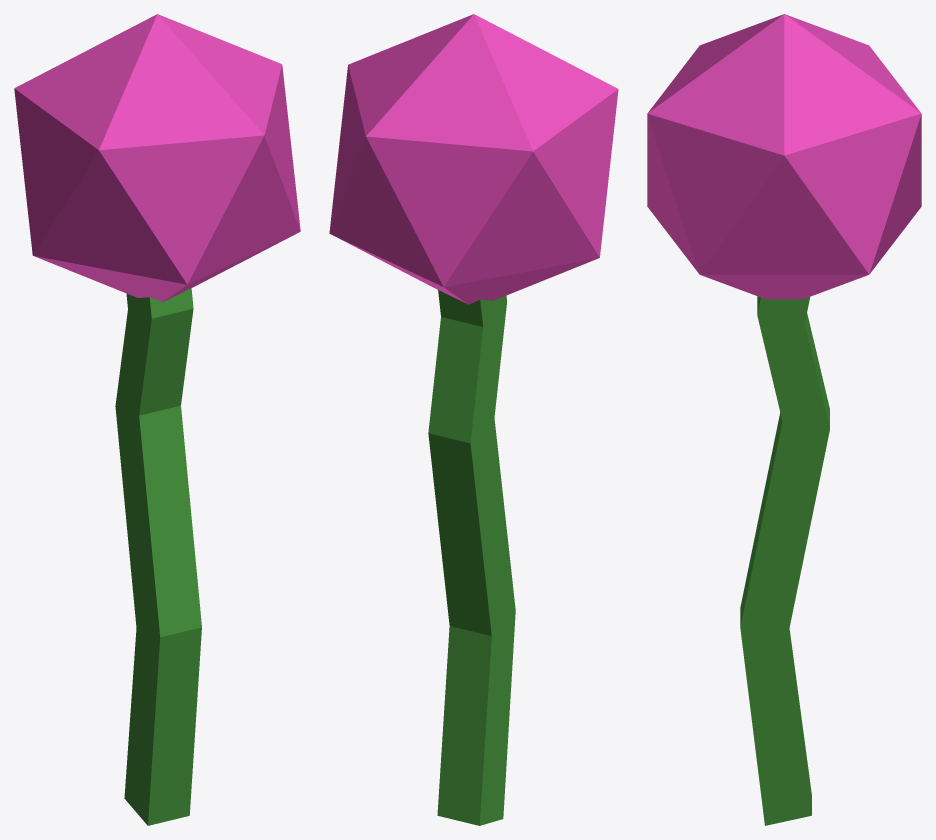
The model's file is allium.fbx.
The picture shows the model from 3 angles, left to right: view 1: azimuth 30°, elevation 25°; view 2: azimuth 150°, elevation 25°; view 3: azimuth 270°, elevation 25°; orthographic projection.
Parts seen in each view (by area): view 1: Plane; view 2: Plane; view 3: Plane.
Boxes of the visible parts, x1,y1,x2,y2 form: Plane: [14, 14, 300, 825]; Plane: [329, 14, 618, 825]; Plane: [647, 14, 921, 825].
Size of the model in its own units: 179 by 548 by 170.
